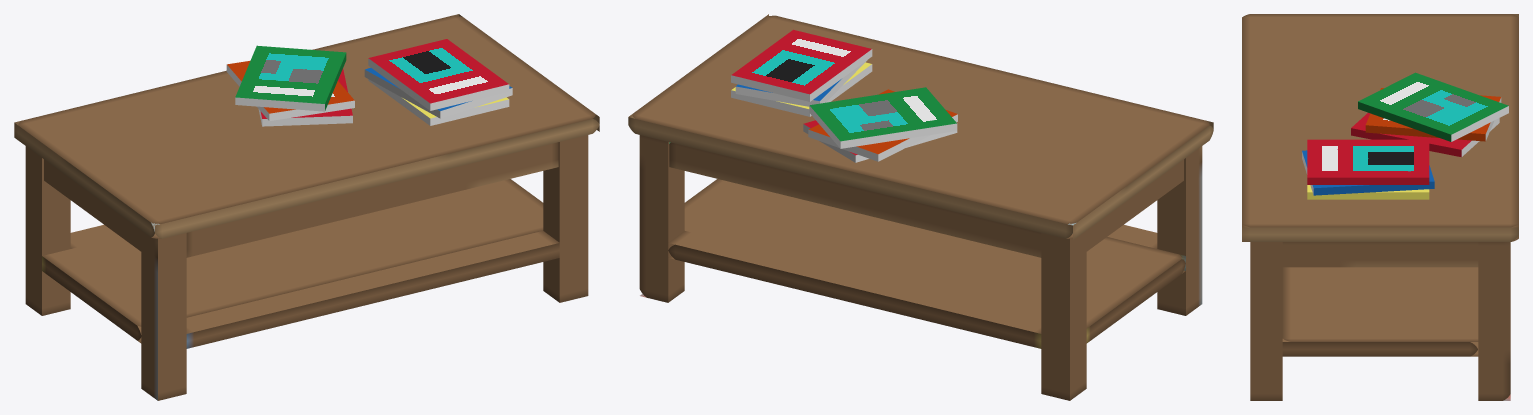
The model's file is Stol_3_ver2.fbx.
3 views of the same model, side by side, from view 1: azimuth 30°, elevation 25°; view 2: azimuth 150°, elevation 25°; view 3: azimuth 270°, elevation 25° (orthographic).
Visible parts, largest first — view 1: cube_4, cube_5, cube_6, cube_8, cube_3, cube_1, cube_16, cube_17, cube_2, cube_10, cube_14, cube_15 (+3 smaller); view 2: cube_4, cube_5, cube_7, cube_9, cube_2, cube, cube_17, cube_16, cube_3, cube_10, cube_14, cube_13 (+3 smaller); view 3: cube_4, cube_5, cube_17, cube_16, cube, cube_1, cube_11, cube_12, cube_14, cube_15, cube_13.
Boxes of the visible parts, x1=… form: cube_4: x1=14, y1=14, x2=599, y2=238; cube_5: x1=42, y1=179, x2=543, y2=343; cube_6: x1=186, y1=231, x2=559, y2=348; cube_8: x1=186, y1=142, x2=558, y2=257; cube_3: x1=141, y1=222, x2=186, y2=400; cube_1: x1=543, y1=135, x2=588, y2=302; cube_16: x1=368, y1=39, x2=509, y2=110; cube_17: x1=235, y1=45, x2=346, y2=111; cube_2: x1=25, y1=146, x2=70, y2=315; cube_10: x1=44, y1=159, x2=141, y2=251; cube_14: x1=226, y1=61, x2=354, y2=120; cube_15: x1=364, y1=67, x2=512, y2=118; cube_4: x1=628, y1=14, x2=1213, y2=240; cube_5: x1=684, y1=179, x2=1185, y2=343; cube_7: x1=668, y1=231, x2=1041, y2=348; cube_9: x1=669, y1=142, x2=1041, y2=257; cube_2: x1=1041, y1=223, x2=1086, y2=400; cube: x1=639, y1=135, x2=684, y2=302; cube_17: x1=809, y1=87, x2=957, y2=148; cube_16: x1=731, y1=29, x2=872, y2=101; cube_3: x1=1157, y1=146, x2=1202, y2=315; cube_10: x1=1086, y1=159, x2=1183, y2=251; cube_14: x1=808, y1=89, x2=957, y2=161; cube_13: x1=731, y1=62, x2=872, y2=116; cube_4: x1=1242, y1=14, x2=1518, y2=241; cube_5: x1=1282, y1=267, x2=1478, y2=356; cube_17: x1=1358, y1=72, x2=1508, y2=141; cube_16: x1=1307, y1=139, x2=1429, y2=184; cube: x1=1478, y1=242, x2=1510, y2=400; cube_1: x1=1250, y1=242, x2=1282, y2=400; cube_11: x1=1282, y1=242, x2=1478, y2=267; cube_12: x1=1351, y1=112, x2=1499, y2=157; cube_14: x1=1365, y1=88, x2=1501, y2=141; cube_15: x1=1302, y1=150, x2=1434, y2=195; cube_13: x1=1307, y1=185, x2=1429, y2=199.
Size of the model in its own units: 96.88 by 42.19 by 53.12.
